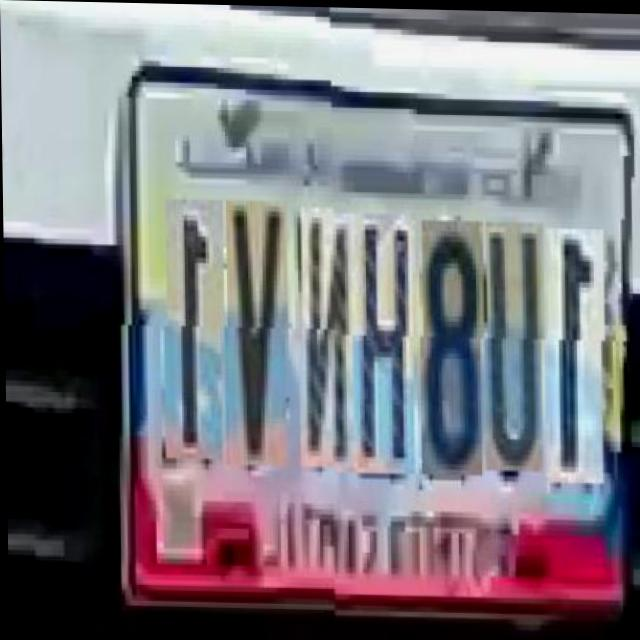1: (162, 202, 221, 463), (542, 226, 602, 481)
8: (418, 219, 481, 473)
h: (350, 212, 414, 473)
n: (297, 211, 353, 472)
u: (482, 219, 541, 469)
v: (221, 204, 286, 470)
